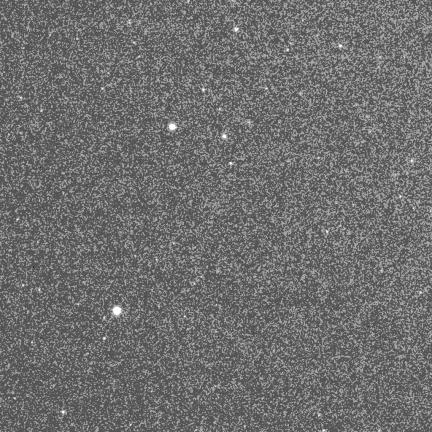blob: (113, 307, 121, 315), (169, 123, 176, 130), (222, 134, 227, 139), (234, 27, 239, 32), (62, 410, 66, 415), (265, 87, 269, 91), (411, 159, 414, 163), (339, 44, 342, 47), (202, 88, 205, 91), (184, 316, 187, 319), (230, 162, 232, 165), (103, 337, 105, 340)
